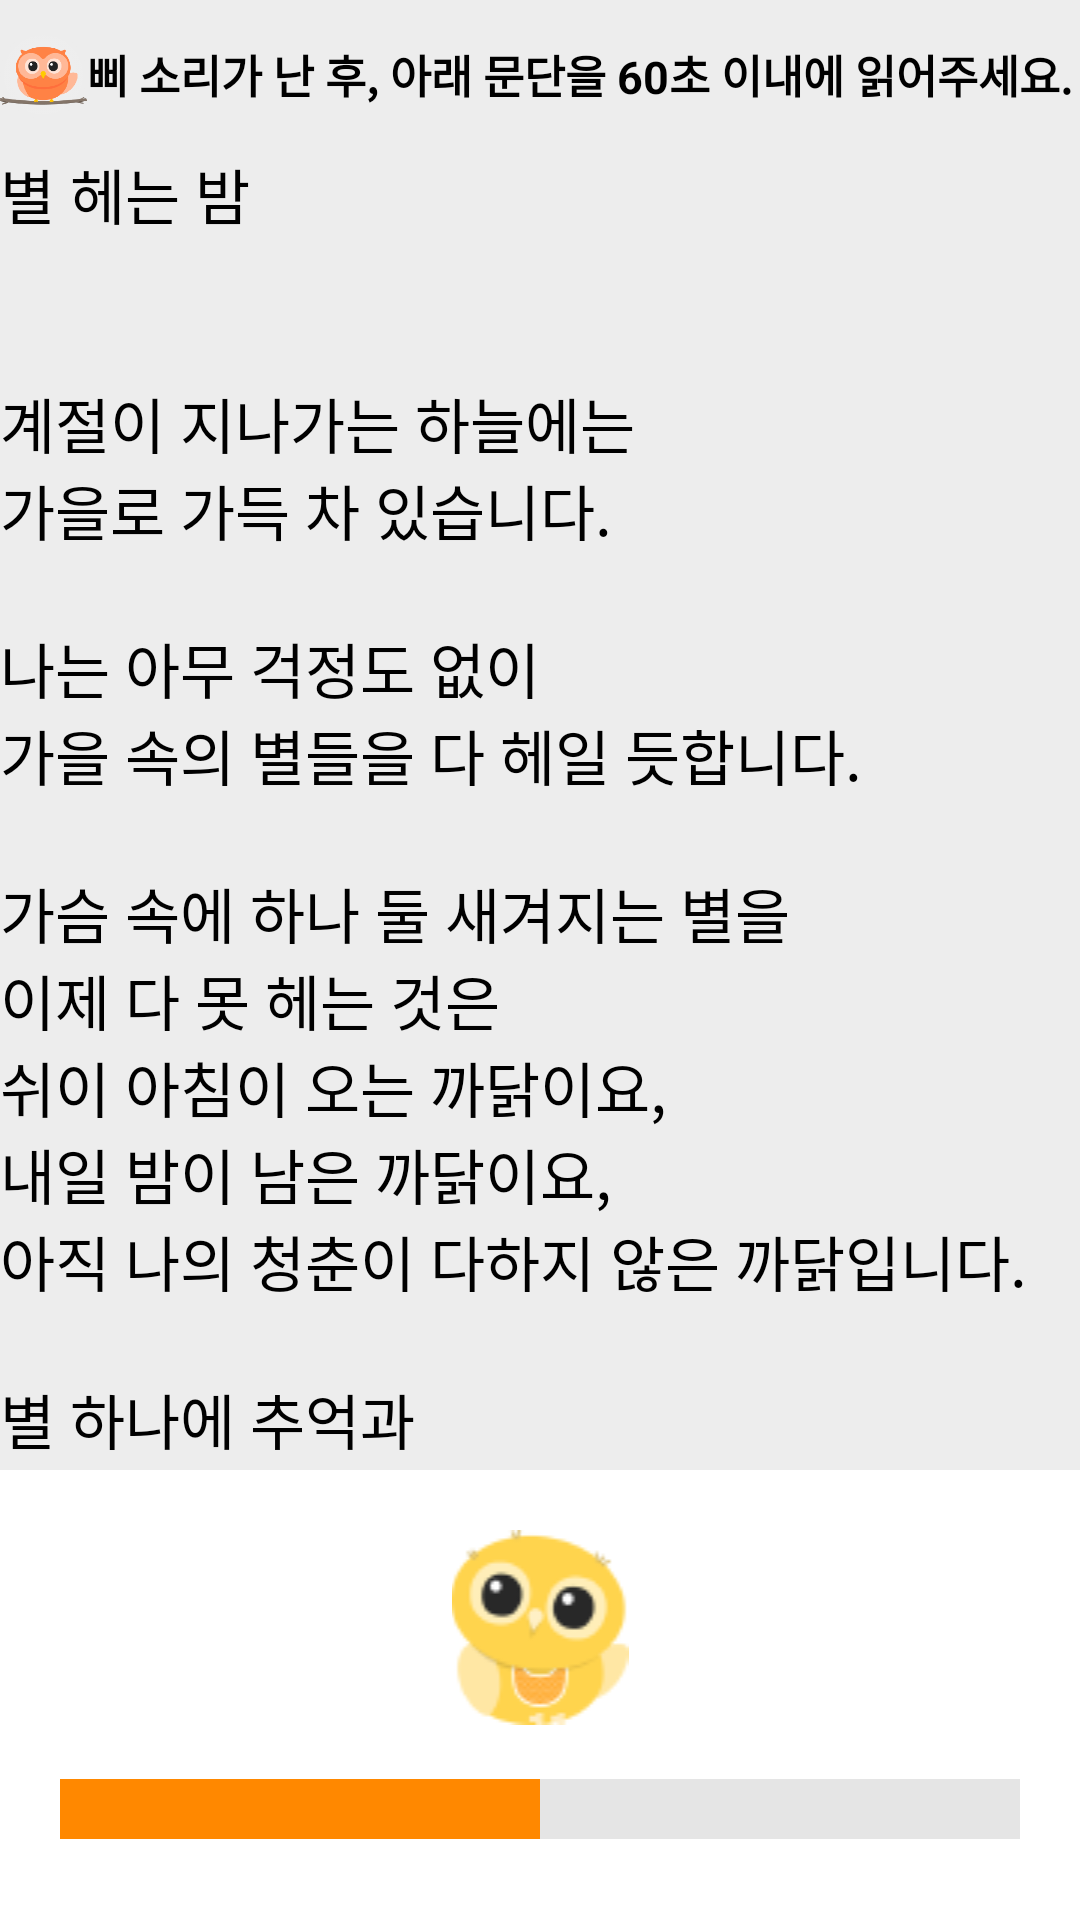

Where icons sit on this 1080×1920 app screen, as {"x1": x1, "y1": y1, "x2": x2, "y2": y2}:
owlim: {"x1": 0, "y1": 47, "x2": 87, "y2": 105}, {"x1": 452, "y1": 1530, "x2": 629, "y2": 1725}
